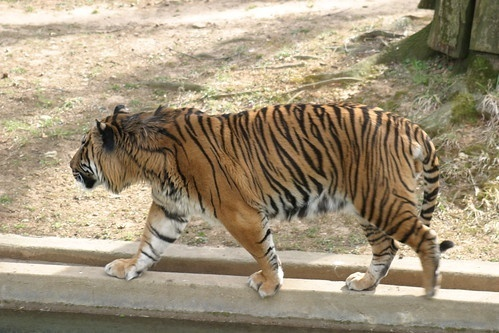tigre: (67, 96, 457, 305)
